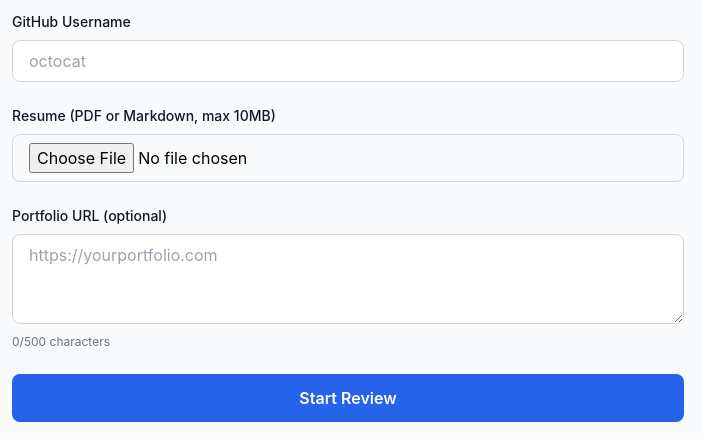
ProfileForm › updates character count for portfolio URL
Type "https://example.com" into the text box with placeholder "https://yourportfolio.com".
click(348, 279); type("https://example.com")  # box x1=12 y1=234 x2=684 y2=324
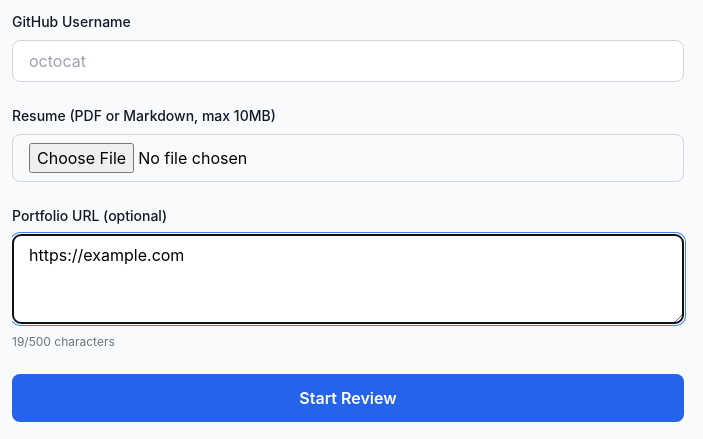
Now the text "19/500 characters" is shown, box x1=12 y1=334 x2=115 y2=349
